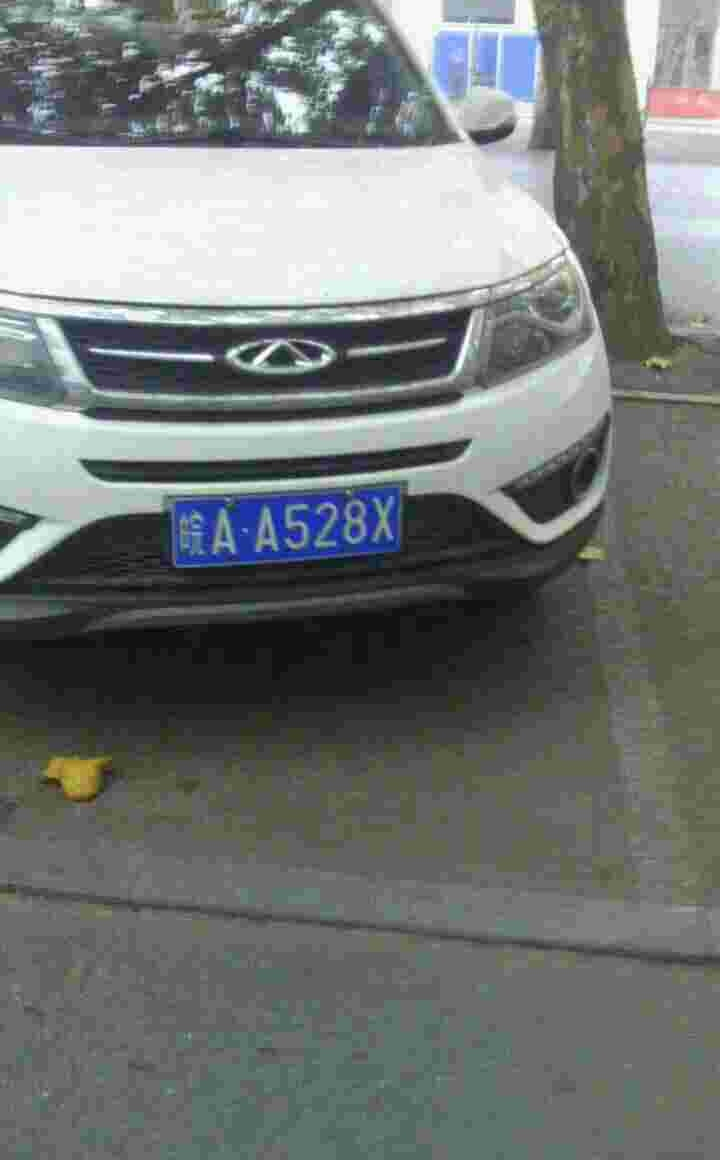plate: (178, 481, 408, 573)
